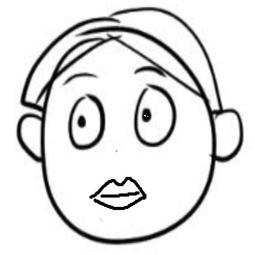cupid_mouth: (87, 174, 156, 218)
ear: (210, 107, 248, 166), (14, 114, 52, 164)
eye: (130, 83, 177, 149), (62, 91, 110, 155)
eyebrow: (127, 62, 165, 80), (60, 71, 99, 88)
